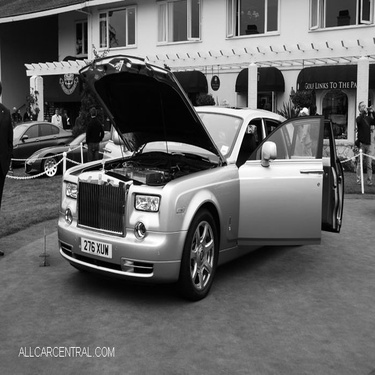car: (50, 55, 355, 302), (24, 131, 120, 175), (7, 120, 73, 171)
